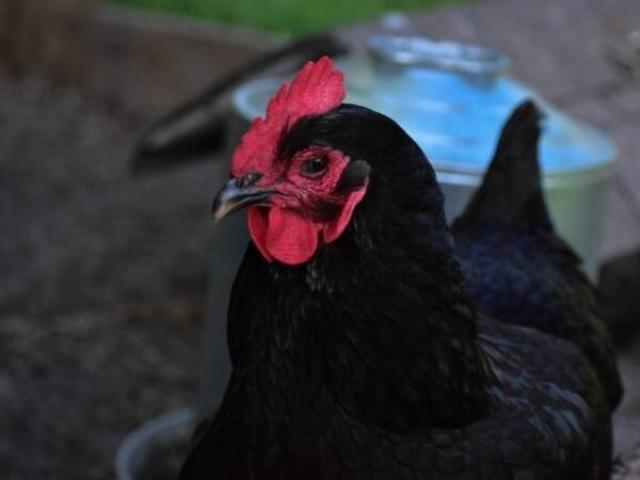Chicken: (176, 54, 621, 480)
